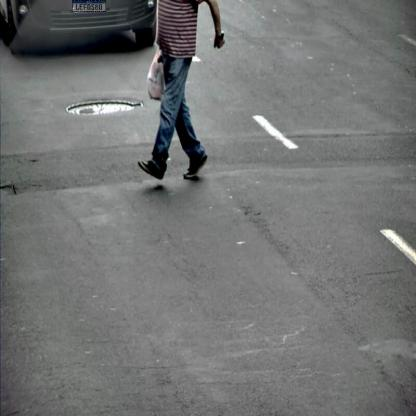PlacaM: (72, 0, 106, 12)
